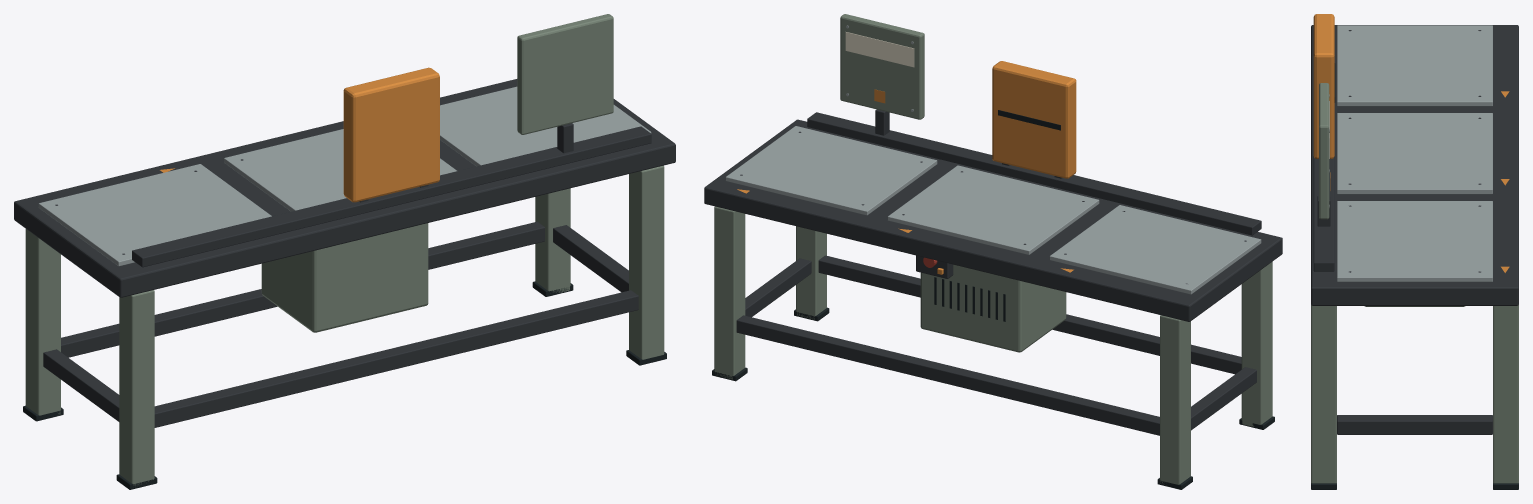
Rendered from Saege01.fbx.
3 renders of one model, left to right at view 1: azimuth 30°, elevation 25°; view 2: azimuth 150°, elevation 25°; view 3: azimuth 270°, elevation 25°, orthographic. The views are drawn at different scales.
Visible parts, largest first — view 1: MainTable__MachineSteel.009, MotorHousing__MutedGreen.009, Platen_0__BrushedSteel.009, Moving_ParkedGuard__SafetyOrange.009, LongBrace__MachineSteel.018, StatusPlate__MutedGreen.009, RearRail__MachineSteel.009, Platen_2__BrushedSteel.009, Leg__MutedGreen.036, Leg__MutedGreen.038, Platen_1__BrushedSteel.009, LongBrace__MachineSteel.019 (+4 smaller); view 2: MainTable__MachineSteel.009, Platen_0__BrushedSteel.009, Platen_2__BrushedSteel.009, Platen_1__BrushedSteel.009, MotorHousing__MutedGreen.009, Moving_ParkedGuard__SafetyOrange.009, LongBrace__MachineSteel.019, RearRail__MachineSteel.009, StatusPlate__MutedGreen.009, Leg__MutedGreen.039, Leg__MutedGreen.037, LongBrace__MachineSteel.018 (+5 smaller); view 3: MainTable__MachineSteel.009, Platen_1__BrushedSteel.009, Platen_0__BrushedSteel.009, Platen_2__BrushedSteel.009, Leg__MutedGreen.038, Leg__MutedGreen.039, EndBrace__MachineSteel.019, Moving_ParkedGuard__SafetyOrange.009, RearRail__MachineSteel.009, StatusPlate__MutedGreen.009.
Boxes of the visible parts, <box> form: MainTable__MachineSteel.009: <box>14,79,675,297</box>; MotorHousing__MutedGreen.009: <box>261,223,428,332</box>; Platen_0__BrushedSteel.009: <box>38,164,271,266</box>; Moving_ParkedGuard__SafetyOrange.009: <box>343,67,439,202</box>; LongBrace__MachineSteel.018: <box>154,290,638,427</box>; StatusPlate__MutedGreen.009: <box>517,14,613,134</box>; RearRail__MachineSteel.009: <box>132,126,651,267</box>; Platen_2__BrushedSteel.009: <box>440,86,651,166</box>; Leg__MutedGreen.036: <box>119,290,154,485</box>; Leg__MutedGreen.038: <box>629,165,664,359</box>; Platen_1__BrushedSteel.009: <box>224,129,456,211</box>; LongBrace__MachineSteel.019: <box>61,221,544,357</box>; MainTable__MachineSteel.009: <box>704,119,1282,321</box>; Platen_0__BrushedSteel.009: <box>1049,205,1261,294</box>; Platen_2__BrushedSteel.009: <box>725,126,937,215</box>; Platen_1__BrushedSteel.009: <box>887,165,1099,254</box>; MotorHousing__MutedGreen.009: <box>920,264,1066,352</box>; Moving_ParkedGuard__SafetyOrange.009: <box>992,61,1076,178</box>; LongBrace__MachineSteel.019: <box>736,315,1159,435</box>; RearRail__MachineSteel.009: <box>807,112,1261,235</box>; StatusPlate__MutedGreen.009: <box>840,14,924,119</box>; Leg__MutedGreen.039: <box>714,206,745,379</box>; Leg__MutedGreen.037: <box>1160,315,1190,485</box>; LongBrace__MachineSteel.018: <box>818,255,1241,374</box>; MainTable__MachineSteel.009: <box>1311,25,1518,305</box>; Platen_1__BrushedSteel.009: <box>1337,113,1492,194</box>; Platen_0__BrushedSteel.009: <box>1337,25,1492,106</box>; Platen_2__BrushedSteel.009: <box>1337,201,1492,281</box>; Leg__MutedGreen.038: <box>1311,304,1336,483</box>; Leg__MutedGreen.039: <box>1493,304,1518,483</box>; EndBrace__MachineSteel.019: <box>1337,415,1492,434</box>; Moving_ParkedGuard__SafetyOrange.009: <box>1313,14,1334,158</box>; RearRail__MachineSteel.009: <box>1313,156,1334,271</box>; StatusPlate__MutedGreen.009: <box>1319,83,1329,219</box>.
Size of the model in its own units: 240 by 145 by 80.
